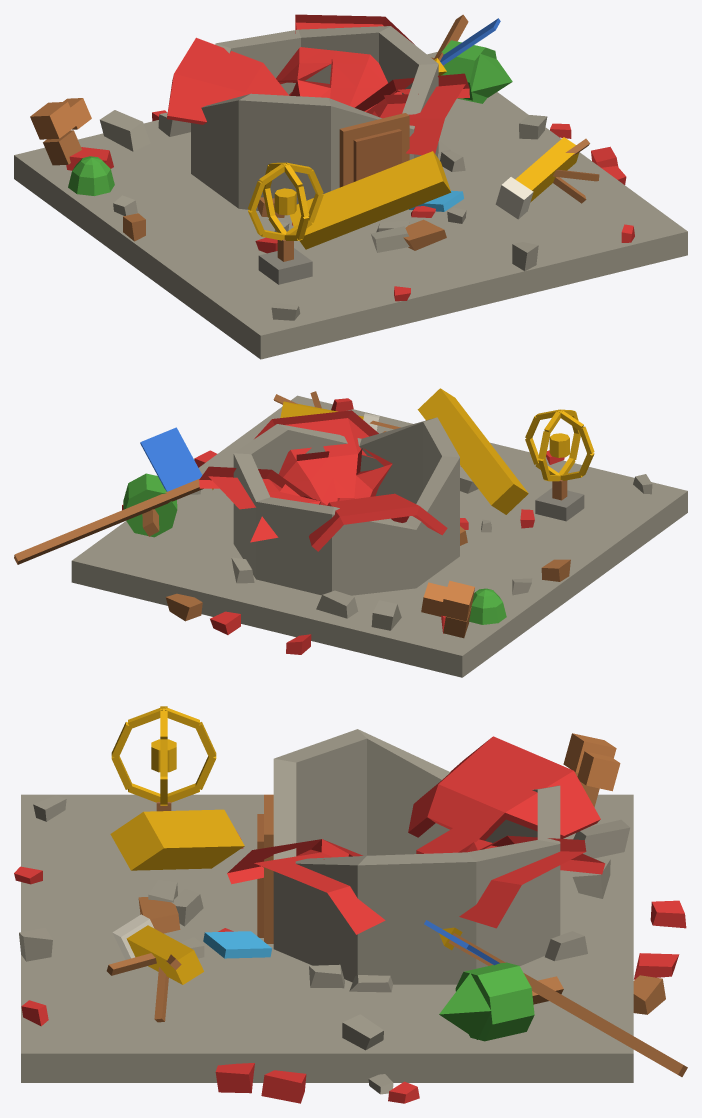
Rendered from observatory_t2_v3_dmg2.glb.
3 renders of one model, top to bottom at view 1: azimuth 30°, elevation 25°; view 2: azimuth 150°, elevation 25°; view 3: azimuth 270°, elevation 25°, orthographic. The views are drawn at different scales.
Parts seen in each view (by area): view 1: observatory_t2_v3_dmg2; view 2: observatory_t2_v3_dmg2; view 3: observatory_t2_v3_dmg2.
Boxes of the visible parts, <box> form: observatory_t2_v3_dmg2: <box>14,14,687,359</box>; observatory_t2_v3_dmg2: <box>14,388,687,677</box>; observatory_t2_v3_dmg2: <box>14,706,687,1103</box>.
Size of the model in its own units: 0.8303 by 0.2296 by 0.8253.
Materials: 1 (1 with a texture image).
